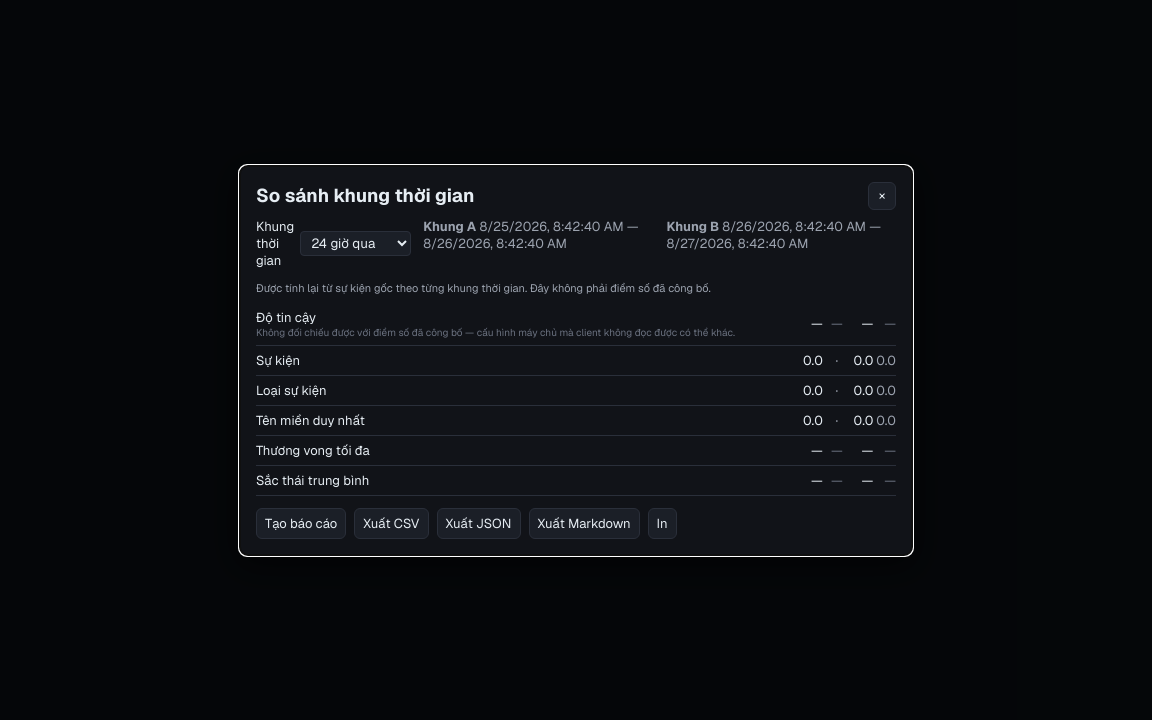
Test case: CompareDialog › clears a generated report when the duration changes
This screenshot has width=1152, height=720.
Click the button "Tạo báo cáo".
click(301, 523)  # box [256,508,346,538]
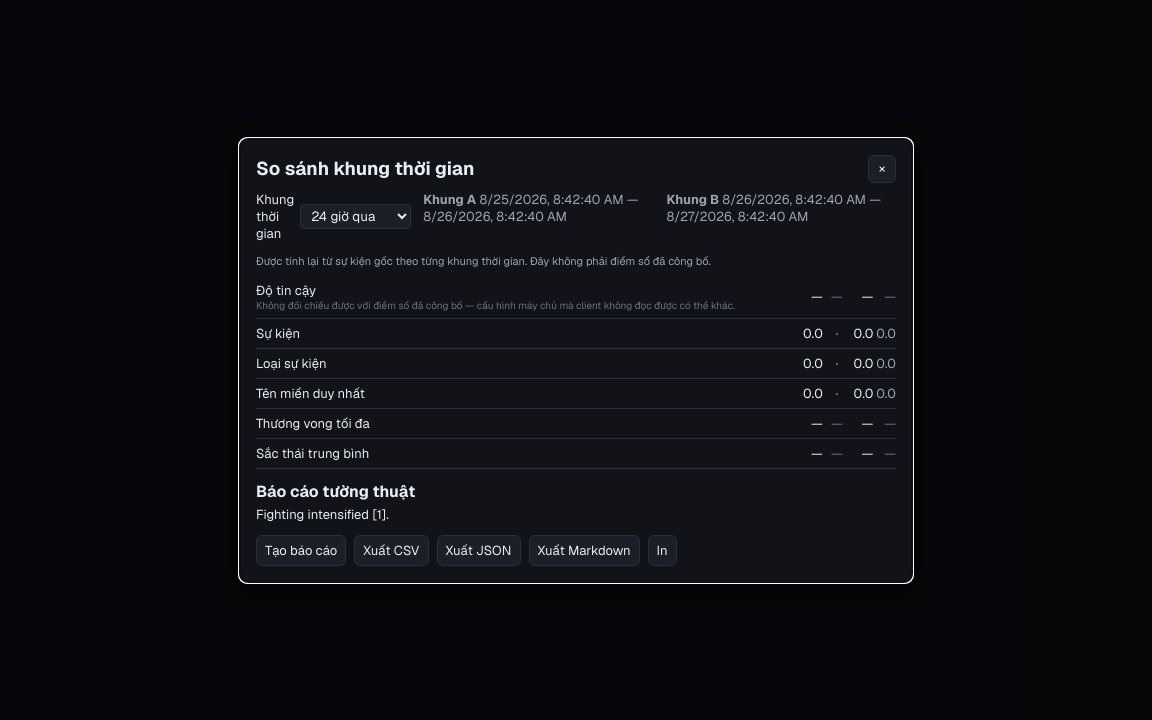
Expected: the text "Fighting intensified [1]." is shown, [256,506,389,522]
Select "7 ngày qua" in the dropdown at (356, 216), box [300,204,411,228]
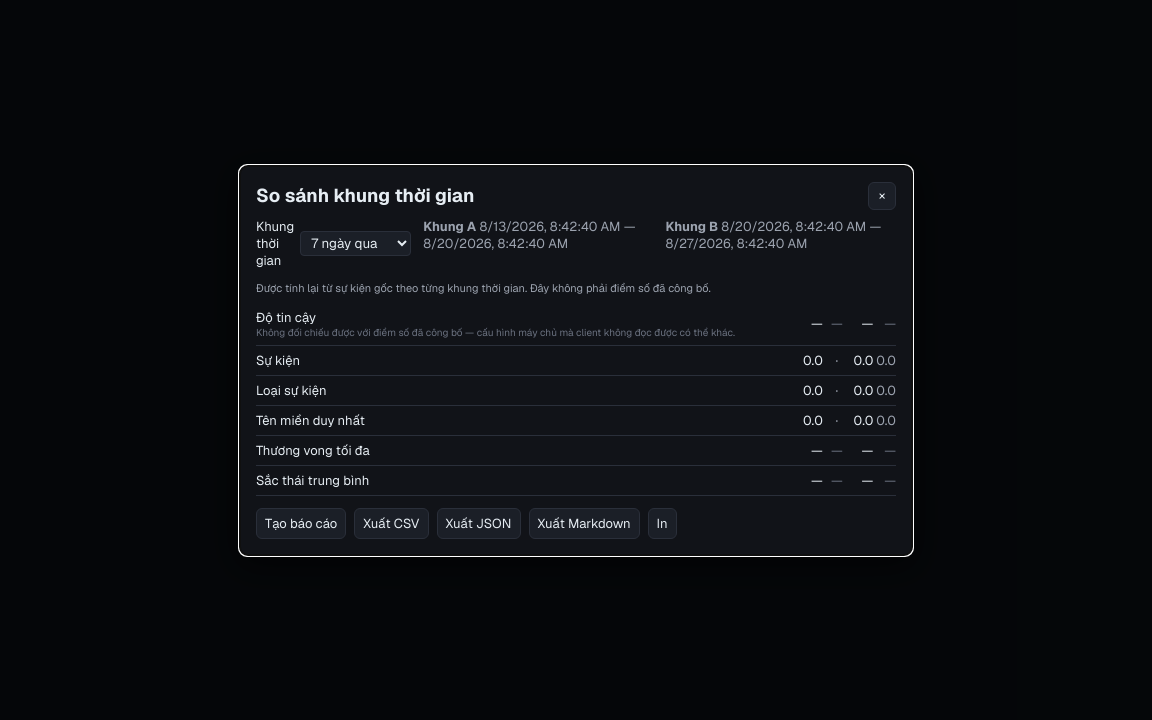
Expected: the text "Fighting intensified [1]." is gone
